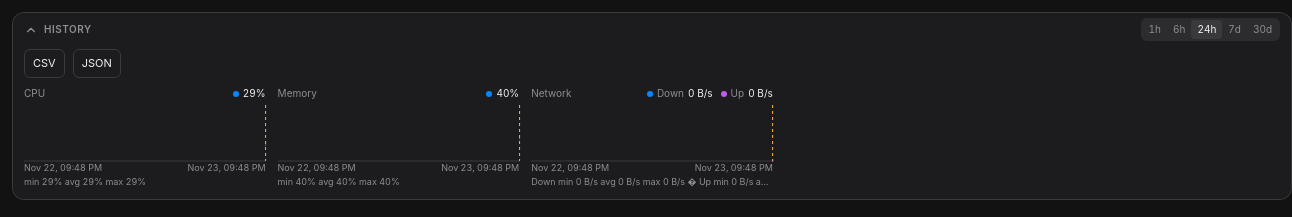
Test: charts only metrics that have data and reads out the newest point
The width and height of the screenshot is (1292, 217).
Expected: the picture named "CPU history" is shown, [24,105,266,161]
What coordinates should you click on to do the following:
click the radio button labelled "1h"
I would click on:
 (1155, 30)
Its box is [1143,20,1167,39].
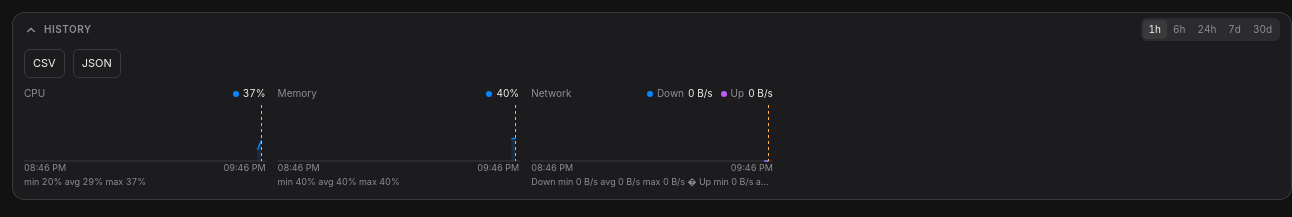
Expected: the radio button labelled "1h" is checked, [1143,20,1167,39]
Expected: the element named "CPU history" shows "37%", [243,87,266,99]
